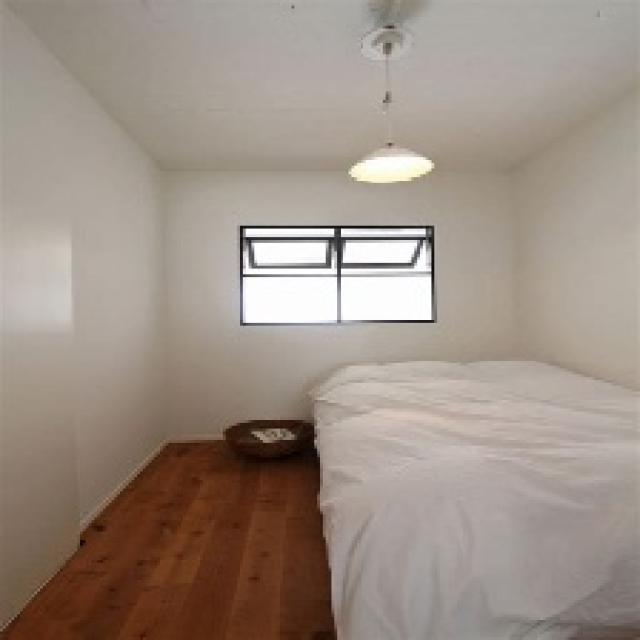Bed: (306, 354, 637, 637)
